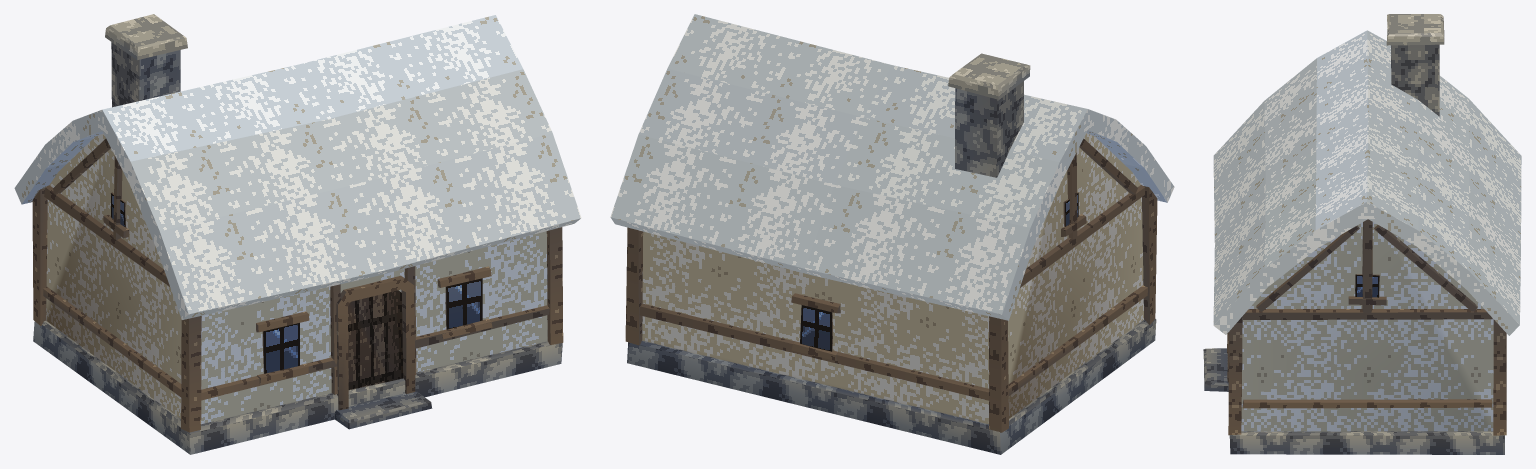
Rendered from vlg.cottage.glb.
The picture shows the model from 3 angles, left to right: view 1: azimuth 30°, elevation 25°; view 2: azimuth 150°, elevation 25°; view 3: azimuth 270°, elevation 25°; orthographic projection. The views are drawn at different scales.
Visible parts, largest first — view 1: kit_roof, kit_walls, kit_stonework, kit_fittings, kit_frame; view 2: kit_roof, kit_walls, kit_stonework, kit_frame, kit_fittings; view 3: kit_roof, kit_walls, kit_frame, kit_stonework, kit_fittings.
Boxes of the visible parts, bbox=[...] form: kit_roof: bbox=[14, 15, 581, 319]; kit_walls: bbox=[46, 133, 547, 424]; kit_stonework: bbox=[33, 14, 562, 454]; kit_fittings: bbox=[103, 192, 492, 429]; kit_frame: bbox=[32, 138, 563, 432]; kit_roof: bbox=[610, 14, 1174, 320]; kit_walls: bbox=[642, 133, 1143, 423]; kit_stonework: bbox=[627, 53, 1156, 454]; kit_frame: bbox=[625, 138, 1157, 432]; kit_fittings: bbox=[791, 192, 1086, 360]; kit_roof: bbox=[1213, 30, 1521, 335]; kit_walls: bbox=[1241, 222, 1493, 431]; kit_frame: bbox=[1228, 219, 1506, 435]; kit_stonework: bbox=[1229, 14, 1504, 454]; kit_fittings: bbox=[1203, 274, 1386, 391].
Size of the model in its own units: 7.57 by 6.13 by 5.95.
Materials: 8 (8 with a texture image).
